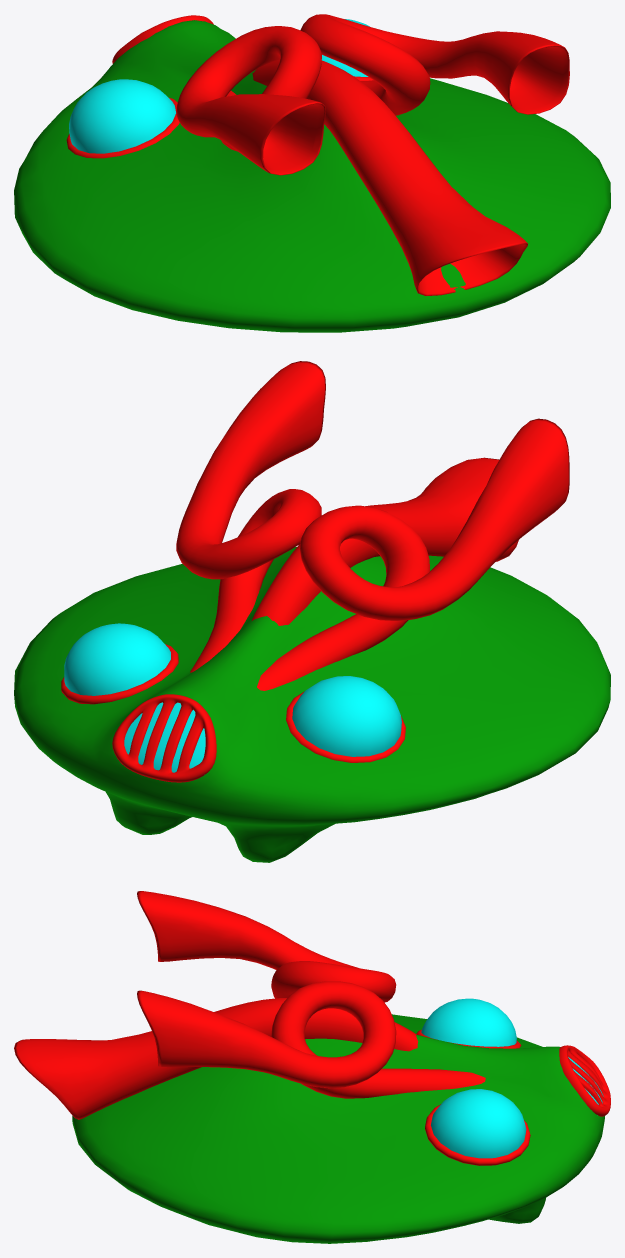
The model's file is ship3.fbx.
3 views of the same model, one above another, from view 1: azimuth 30°, elevation 25°; view 2: azimuth 150°, elevation 25°; view 3: azimuth 270°, elevation 25° (orthographic). The views are drawn at different scales.
Visible parts, largest first — view 1: body, tail, cockpit; view 2: body, tail, cockpit; view 3: body, tail, cockpit.
Part boxes in pixels (left/top/right/bottom): body: left=14, top=20, right=610, bottom=332; tail: left=66, top=14, right=569, bottom=295; cockpit: left=69, top=19, right=369, bottom=153; body: left=14, top=547, right=610, bottom=862; tail: left=61, top=361, right=569, bottom=782; cockpit: left=64, top=623, right=401, bottom=772; body: left=72, top=1014, right=604, bottom=1243; tail: left=14, top=891, right=610, bottom=1165; cockpit: left=421, top=998, right=603, bottom=1158.
Bounding box in the file's own units: 1669 × 926 × 1917.
